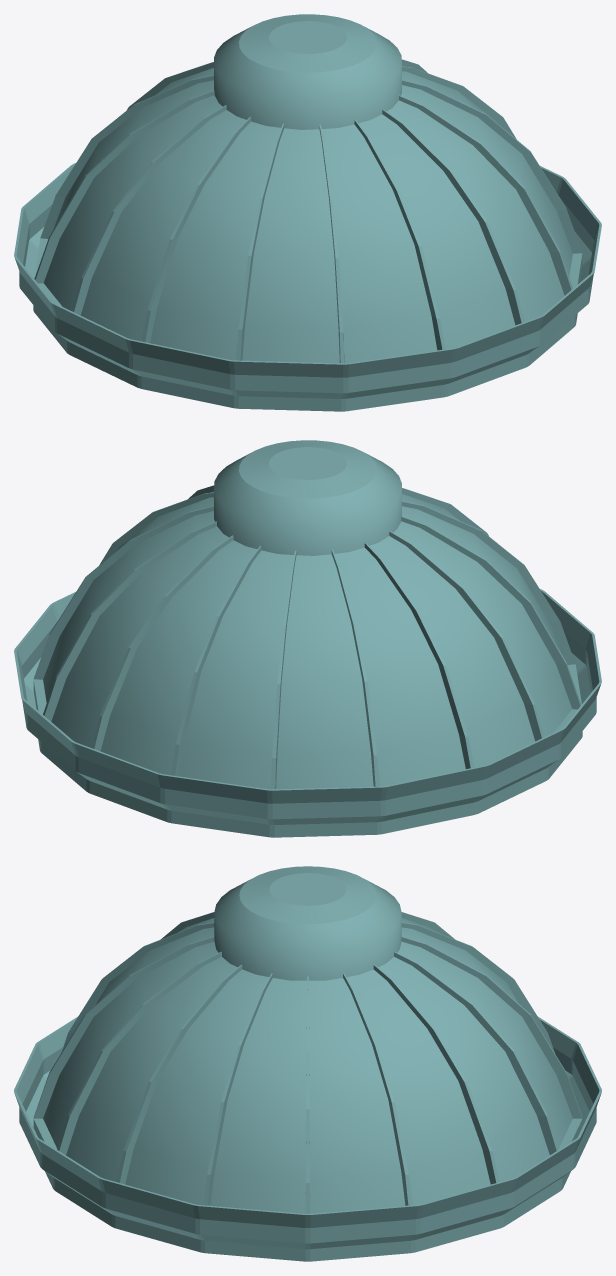
The model's file is Roof.fbx.
3 views of the same model, one above another, from view 1: azimuth 30°, elevation 25°; view 2: azimuth 150°, elevation 25°; view 3: azimuth 270°, elevation 25° (orthographic).
Parts seen in each view (by area): view 1: ovalRoof, sideRoof, ovalFrame, roofTop; view 2: ovalRoof, sideRoof, ovalFrame, roofTop; view 3: ovalRoof, sideRoof, ovalFrame, roofTop.
Part boxes in pixels (x1,y1,x2,y2): ovalRoof: (44,65,572,363); sideRoof: (14,163,601,411); ovalFrame: (34,59,582,363); roofTop: (214,14,401,129); ovalRoof: (43,491,571,789); sideRoof: (14,589,601,837); ovalFrame: (33,485,581,789); roofTop: (214,440,401,555); ovalRoof: (43,918,572,1213); sideRoof: (14,1017,601,1261); ovalFrame: (33,912,582,1213); roofTop: (214,866,401,980).
Bounding box in the file's own units: 773 × 371 × 773.
